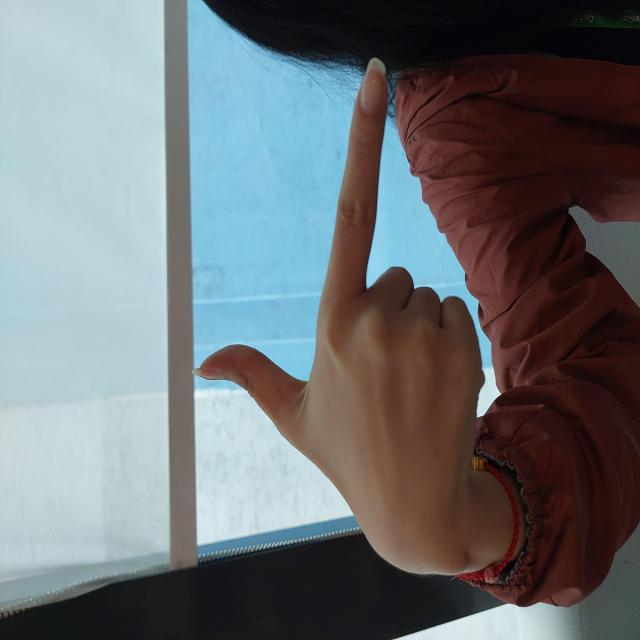G: (66, 190, 587, 487)
